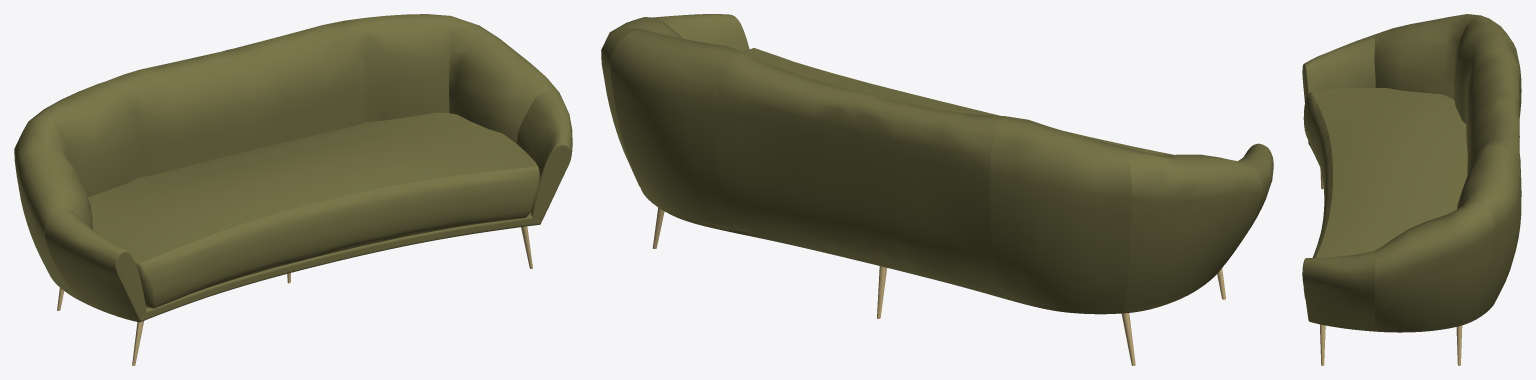
Rendered from Furniture_Sofas-Armchairs_Rubelli_PALAZZO-SOFA.fbx.
3 views of the same model, side by side, from view 1: azimuth 30°, elevation 25°; view 2: azimuth 150°, elevation 25°; view 3: azimuth 270°, elevation 25° (orthographic). The views are drawn at different scales.
Parts seen in each view (by area): view 1: L_39571f9f_72b1_4020_8d8e_487c0fcc058a_I2, L_2825c3dd_6c7a_4dac_86f7_43f08a954200_I1, L_6d6c11b8_994f_4ccc_bd2f_d9d93025601d_I4; view 2: L_39571f9f_72b1_4020_8d8e_487c0fcc058a_I2, L_2825c3dd_6c7a_4dac_86f7_43f08a954200_I1, L_6d6c11b8_994f_4ccc_bd2f_d9d93025601d_I4; view 3: L_39571f9f_72b1_4020_8d8e_487c0fcc058a_I2, L_2825c3dd_6c7a_4dac_86f7_43f08a954200_I1, L_6d6c11b8_994f_4ccc_bd2f_d9d93025601d_I4.
Boxes of the visible parts, x1,y1,x2,y2 form: L_39571f9f_72b1_4020_8d8e_487c0fcc058a_I2: (14, 14, 572, 322); L_2825c3dd_6c7a_4dac_86f7_43f08a954200_I1: (88, 112, 539, 308); L_6d6c11b8_994f_4ccc_bd2f_d9d93025601d_I4: (57, 226, 532, 365); L_39571f9f_72b1_4020_8d8e_487c0fcc058a_I2: (601, 14, 1273, 314); L_2825c3dd_6c7a_4dac_86f7_43f08a954200_I1: (744, 48, 1174, 155); L_6d6c11b8_994f_4ccc_bd2f_d9d93025601d_I4: (652, 207, 1225, 365); L_39571f9f_72b1_4020_8d8e_487c0fcc058a_I2: (1302, 14, 1521, 332); L_2825c3dd_6c7a_4dac_86f7_43f08a954200_I1: (1303, 87, 1467, 298); L_6d6c11b8_994f_4ccc_bd2f_d9d93025601d_I4: (1320, 168, 1462, 365).
Bounding box in the file's own units: 2243 × 902 × 815.
